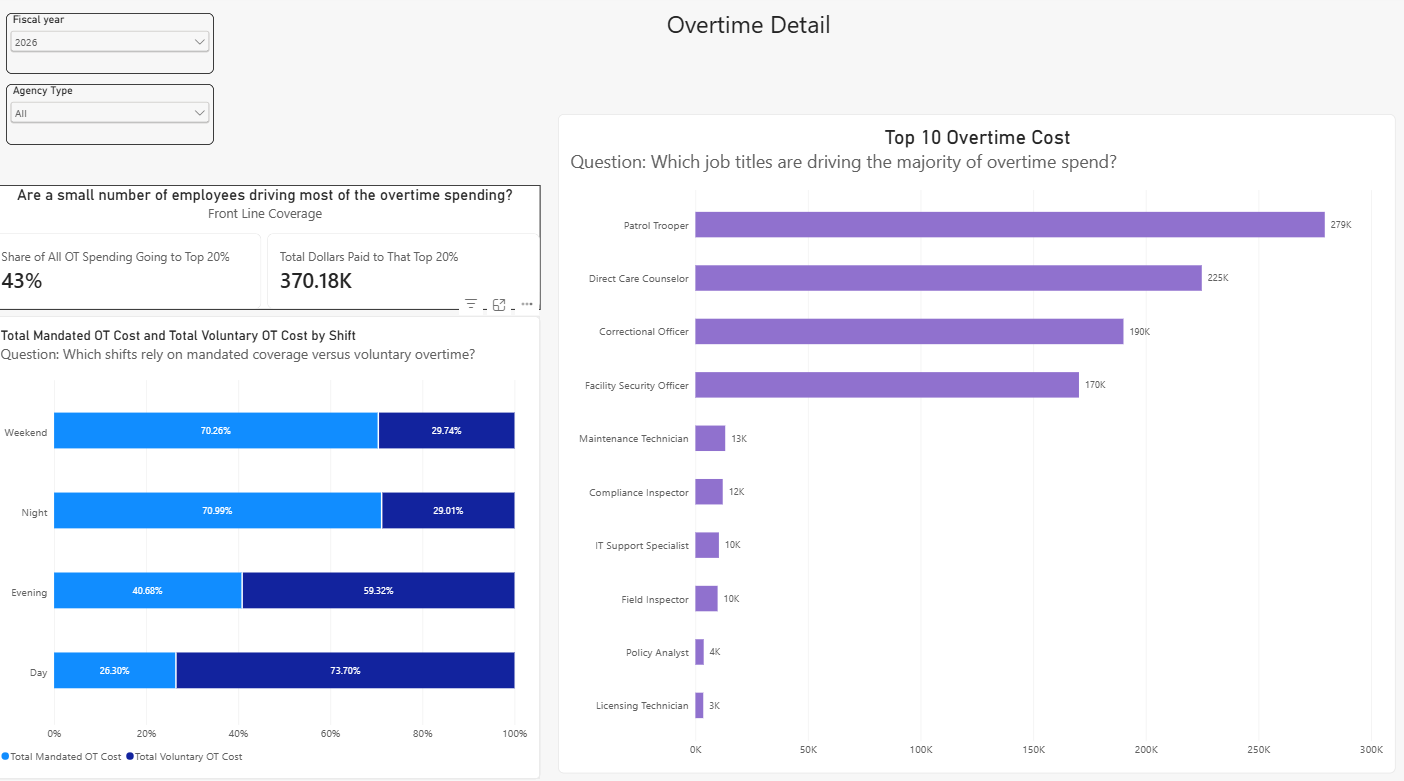

What the dashboard file says about the page in this screenshot:
{"tool":"powerbi","page":{"name":"Overtime Detail","canvas":[1920,1080],"ordinal":2},"visuals":[{"type":"cardVisual","title":"Are a small number of employees driving most of the overtime spending?","fields":{"Data":["overtime_detail.Top 20% Concentration %","overtime_detail.Top 20% OT Cost"]},"box":[0,256,744,168],"z":0},{"type":"slicer","fields":{"Values":["overtime_detail.Fiscal year"]},"box":[24,24,280.1,81.7],"z":1000},{"type":"slicer","fields":{"Values":["agencies.Agency Type"]},"box":[24,120,280.1,81.7],"z":2000},{"type":"textbox","box":[320,16,1408,96],"z":3000},{"type":"clusteredBarChart","title":"Top 10 Overtime Cost","fields":{"Category":["overtime_detail.Job Title"],"Y":["overtime_detail.Total OT Cost"]},"box":[768,160,1128,888],"z":4000},{"type":"hundredPercentStackedBarChart","fields":{"Category":["overtime_detail.Shift"],"Y":["overtime_detail.Total Mandated OT Cost","overtime_detail.Total Voluntary OT Cost"]},"box":[0,432,744,624],"z":5000}]}

Visuals, with their boxes in screenshot pixels (x1, y1, x2, y2), scaled from the page's 1920x1080 canvas onto the 1404x781 screenshot:
"Are a small number of employees driving most of the overtime spending?" cardVisual: 0 185 544 307
slicer - overtime_detail.Fiscal year: 18 17 222 76
slicer - agencies.Agency Type: 18 87 222 146
textbox: 234 12 1264 81
"Top 10 Overtime Cost" clusteredBarChart: 562 116 1386 758
hundredPercentStackedBarChart - overtime_detail.Shift x overtime_detail.Total Mandated OT Cost: 0 312 544 764
